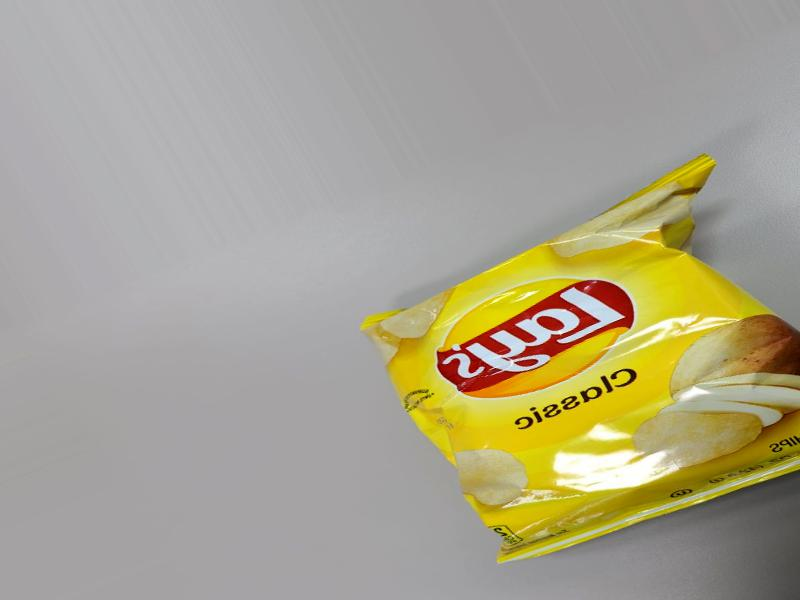lays: (401, 163, 717, 541)
